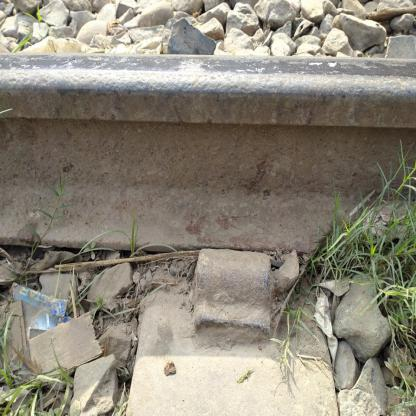Defective 1: (182, 226, 288, 352)
